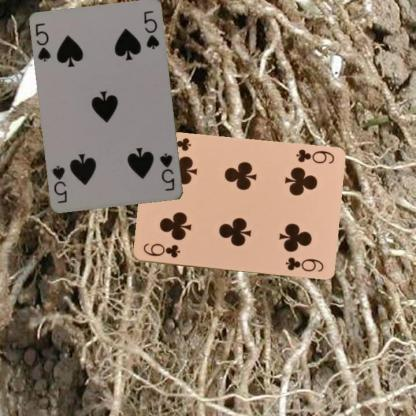5s: (33, 20, 53, 64), (158, 150, 176, 192)
6c: (293, 146, 335, 166), (140, 241, 182, 259)
